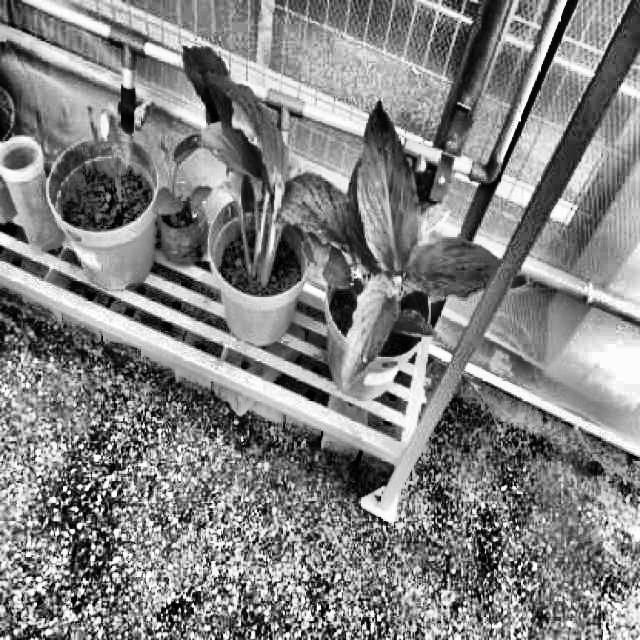plants: (291, 88, 520, 384), (172, 42, 348, 296)
